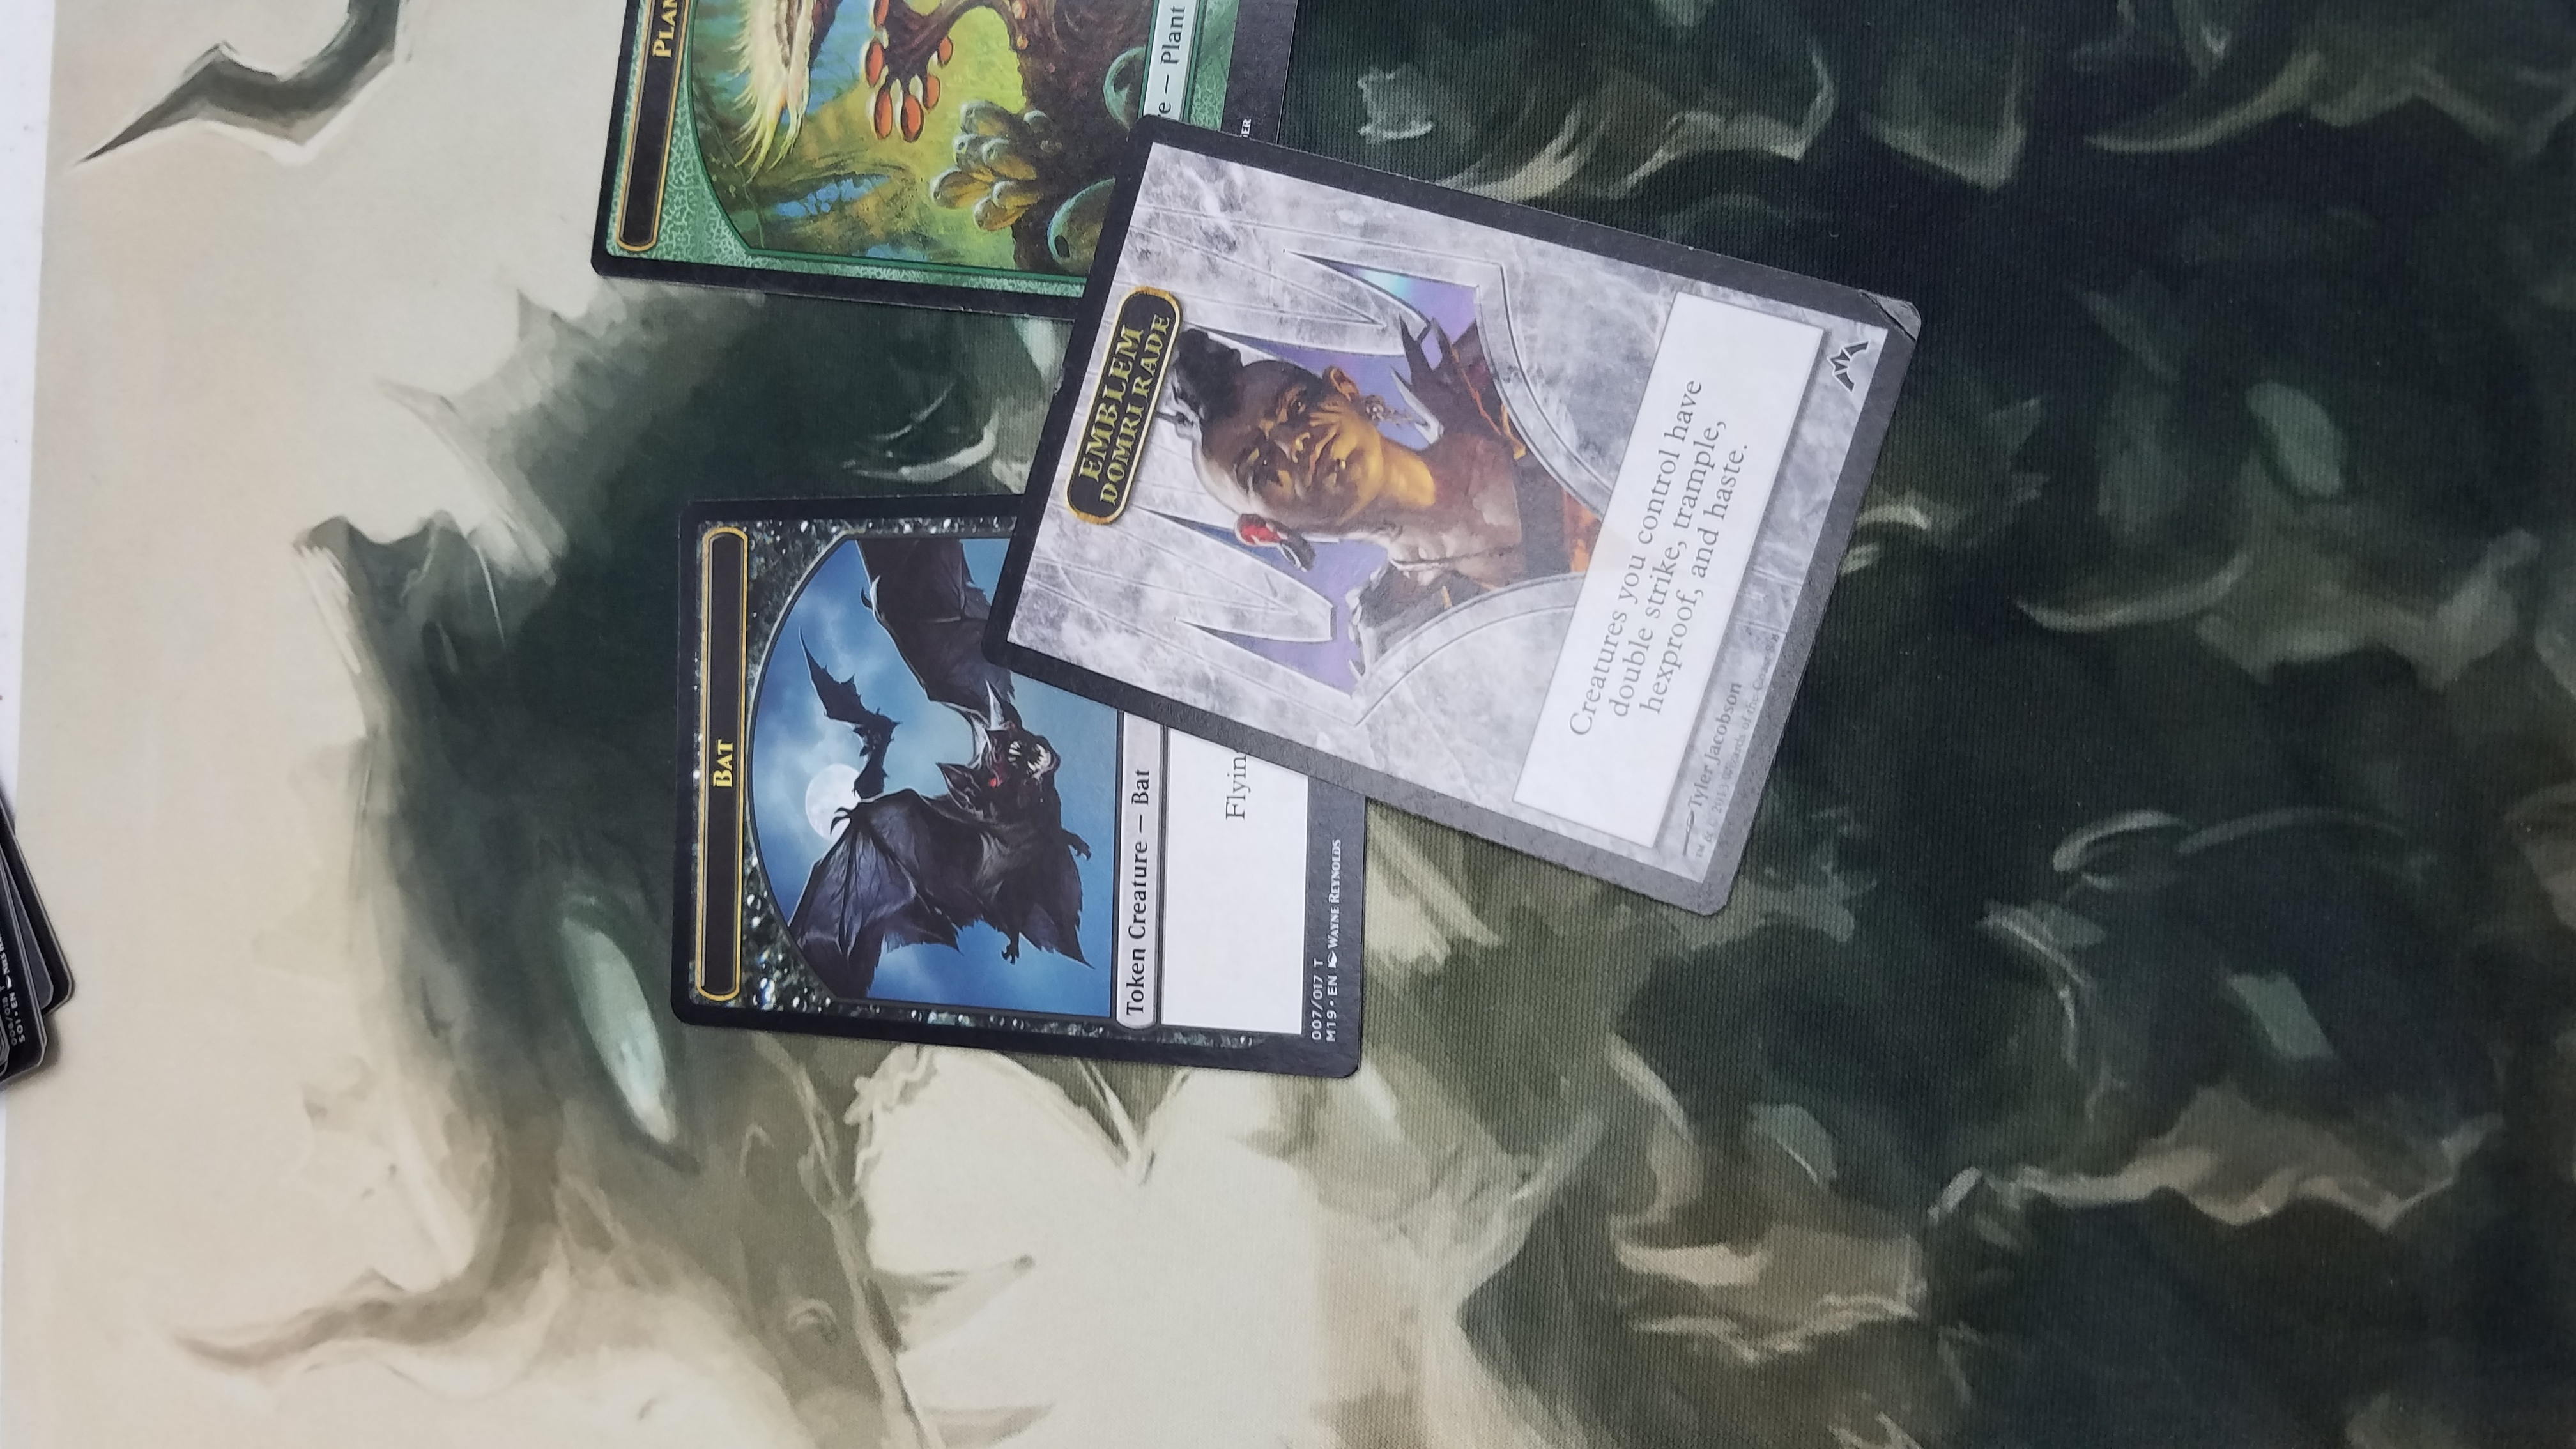Card: (993, 117, 1930, 918), (651, 494, 1401, 1108)
